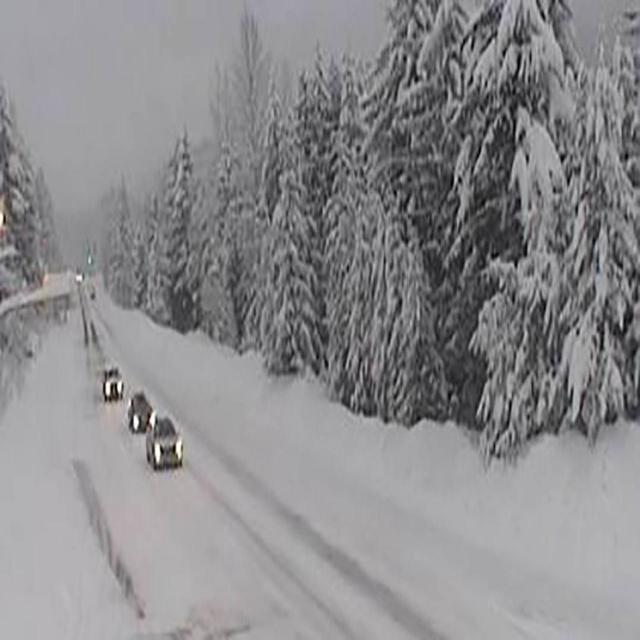car: (146, 415, 184, 470), (126, 394, 154, 434), (103, 358, 125, 402)
